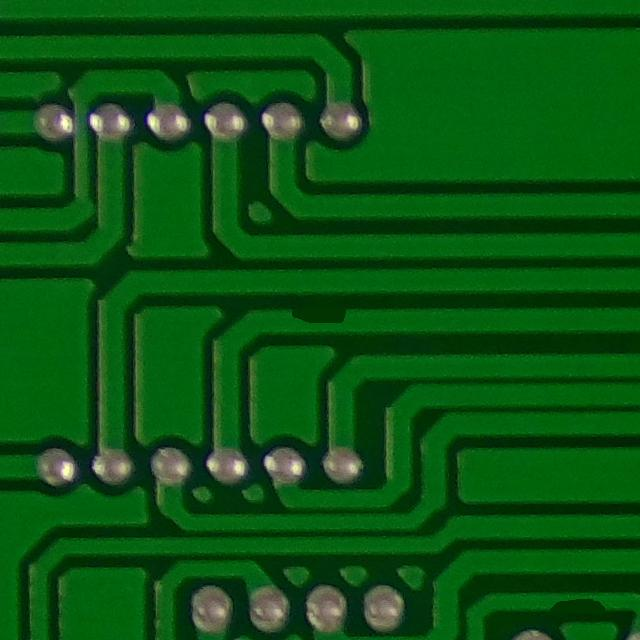mouse_bite: (276, 299, 364, 342)
